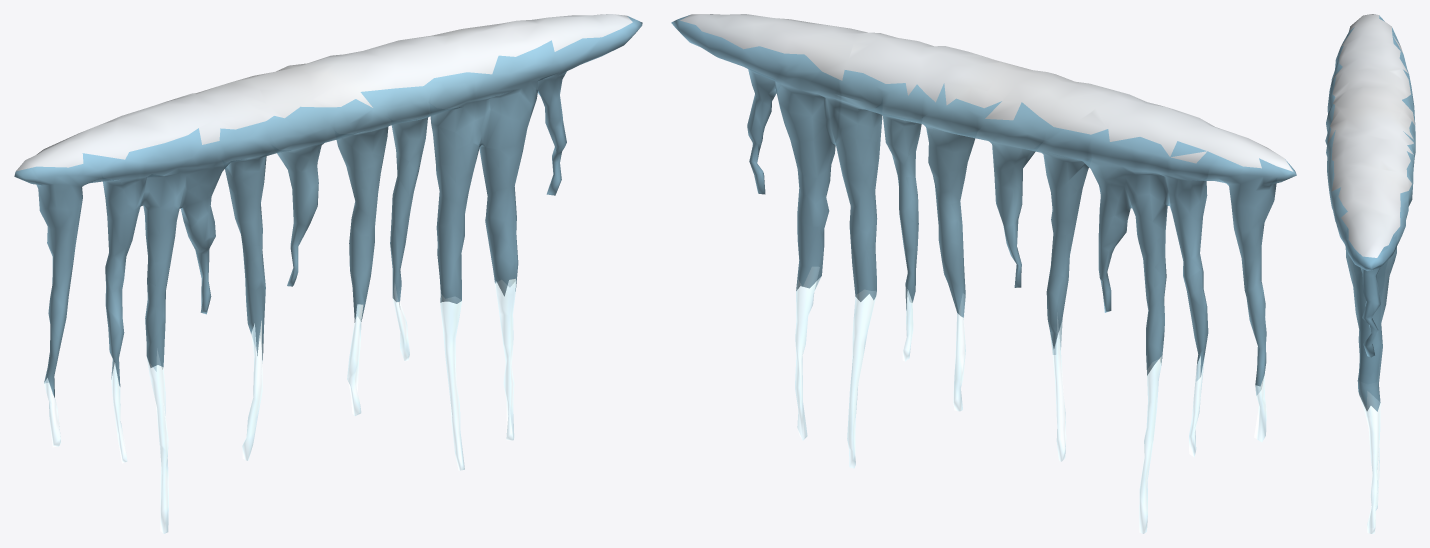
The model's file is frost_icicle_cluster_b_lod1.glb.
3 renders of one model, left to right at view 1: azimuth 30°, elevation 25°; view 2: azimuth 150°, elevation 25°; view 3: azimuth 270°, elevation 25°, orthographic. The views are drawn at different scales.
Visible parts, largest first — view 1: frost_icicle_cluster_b.001; view 2: frost_icicle_cluster_b.001; view 3: frost_icicle_cluster_b.001.
Part boxes in pixels (<box>): frost_icicle_cluster_b.001: <box>14,14,642,533</box>; frost_icicle_cluster_b.001: <box>671,14,1296,533</box>; frost_icicle_cluster_b.001: <box>1325,14,1415,533</box>.
Size of the model in its own units: 18.05 by 11.99 by 2.73.
